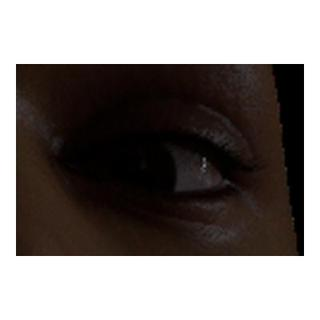pupil: (111, 153, 155, 197)
